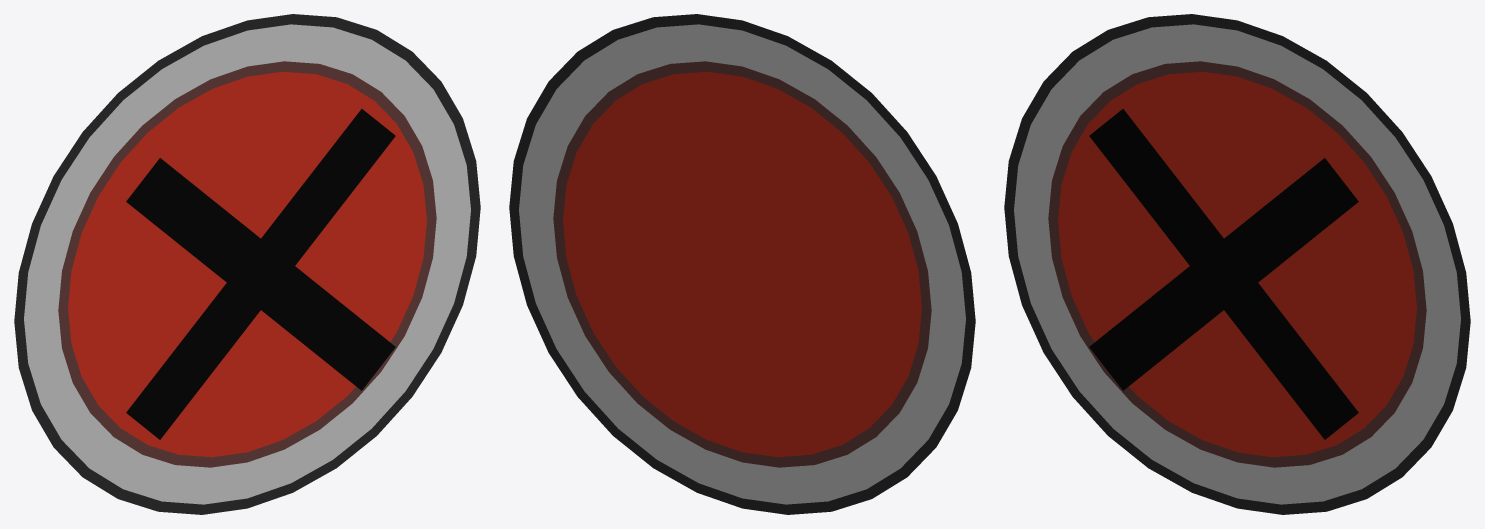
The model's file is CircleNegative.fbx.
3 views of the same model, side by side, from view 1: azimuth 30°, elevation 25°; view 2: azimuth 150°, elevation 25°; view 3: azimuth 330°, elevation 25° (orthographic).
Parts seen in each view (by area): view 1: CircleNegative; view 2: CircleNegative; view 3: CircleNegative.
Boxes of the visible parts, left/top/right/bottom form: CircleNegative: left=14, top=14, right=480, bottom=514; CircleNegative: left=509, top=14, right=975, bottom=514; CircleNegative: left=1004, top=14, right=1470, bottom=514.
Bounding box in the file's own units: 200 × 200 × 10.
